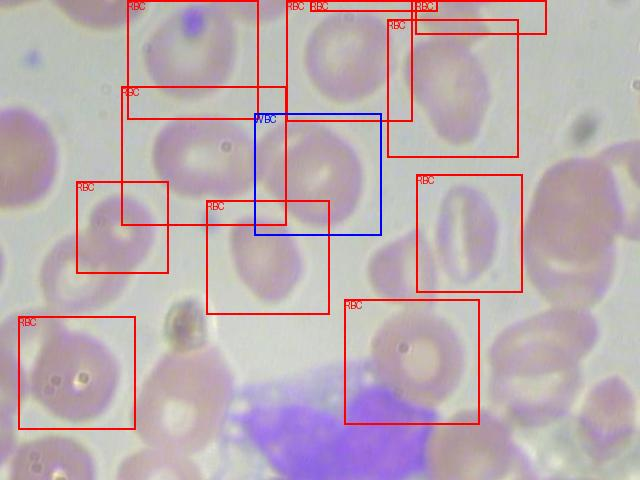RBC: (121, 86, 286, 225), (387, 19, 518, 157), (344, 299, 479, 424), (127, 0, 258, 119), (286, 0, 412, 121), (206, 200, 329, 314), (18, 316, 135, 429), (416, 174, 522, 292), (76, 181, 168, 273), (415, 0, 546, 34), (310, 0, 437, 11)
WBC: (254, 113, 381, 235)
